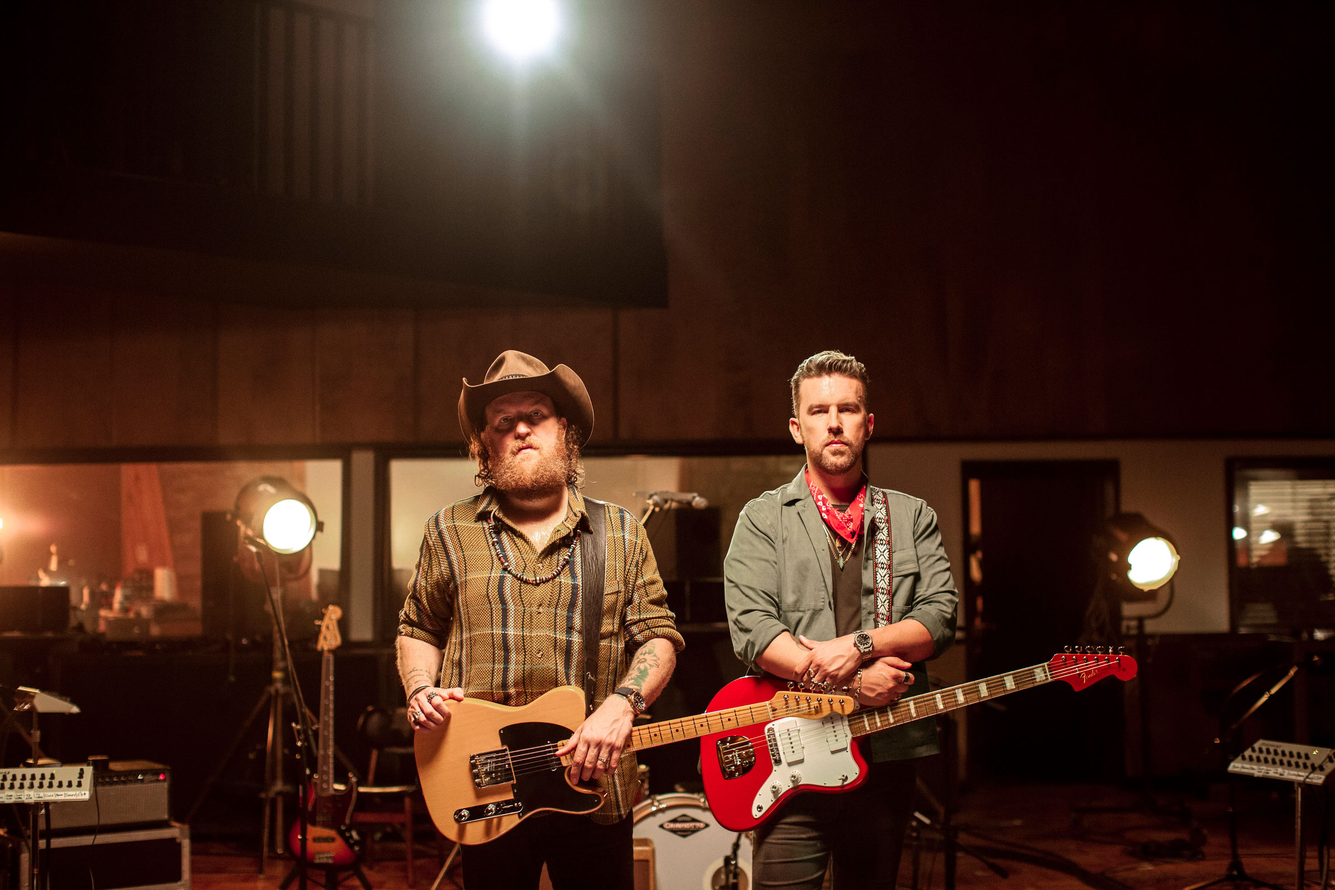acousticguitar: (699, 647, 1139, 834), (412, 679, 859, 844)
